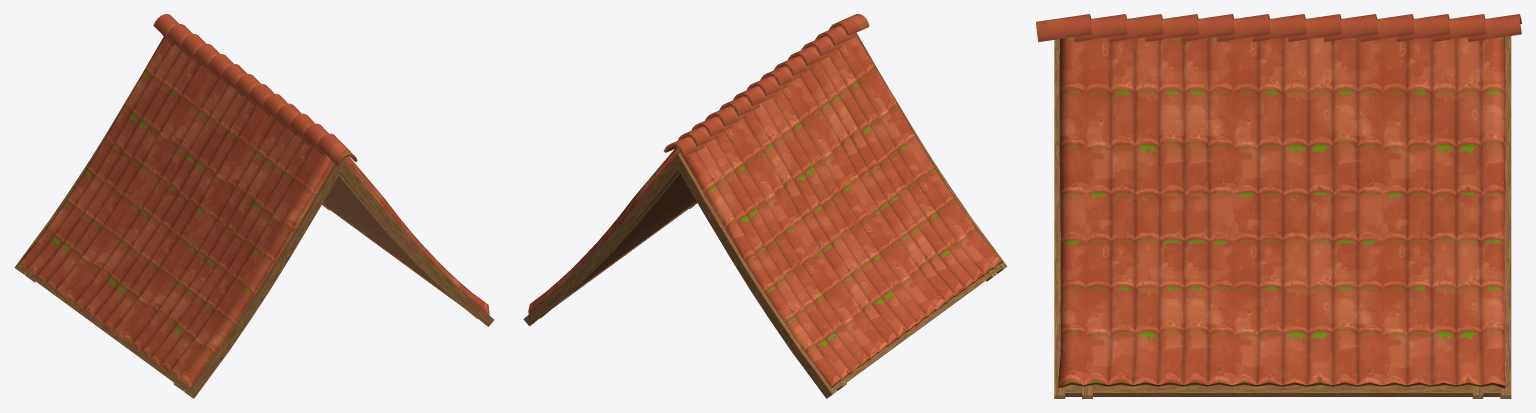
File: Roof_RoundTiles_8x8.glb
3 views of the same model, side by side, from view 1: azimuth 30°, elevation 25°; view 2: azimuth 150°, elevation 25°; view 3: azimuth 270°, elevation 25° (orthographic). The views are drawn at different scales.
Visible parts, largest first — view 1: Roof_RoundTiles_8x8; view 2: Roof_RoundTiles_8x8; view 3: Roof_RoundTiles_8x8.
Part boxes in pixels (x1,y1,x2,y2): Roof_RoundTiles_8x8: (14, 14, 494, 398); Roof_RoundTiles_8x8: (523, 14, 1007, 398); Roof_RoundTiles_8x8: (1036, 14, 1521, 398).
Bounding box in the file's own units: 9.95 × 6.78 × 10.33.
Materials: 2 (2 with a texture image).
